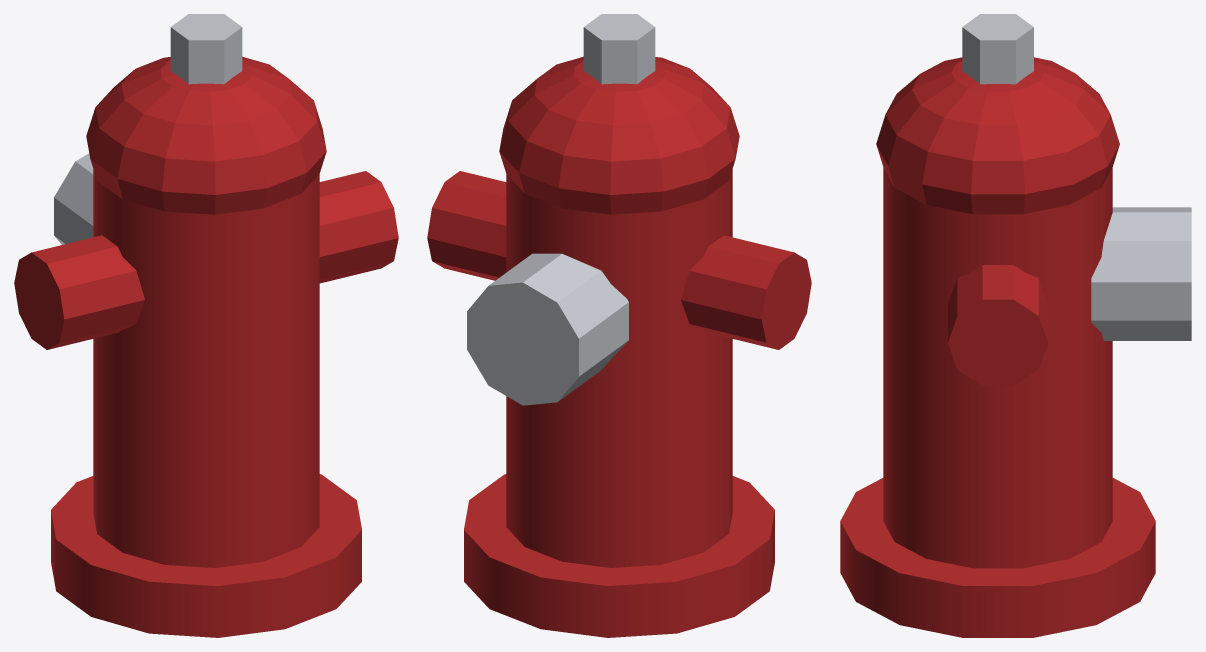
File: hydrant.glb
3 renders of one model, left to right at view 1: azimuth 30°, elevation 25°; view 2: azimuth 150°, elevation 25°; view 3: azimuth 270°, elevation 25°, orthographic.
Visible parts, largest first — view 1: part-hydrant-red, part-chrome; view 2: part-hydrant-red, part-chrome; view 3: part-hydrant-red, part-chrome.
Boxes of the visible parts, box(x1,y1,x2,y2) form: part-hydrant-red: box(14, 56, 398, 637); part-chrome: box(54, 14, 242, 244); part-hydrant-red: box(427, 56, 811, 637); part-chrome: box(467, 14, 655, 405); part-hydrant-red: box(840, 57, 1155, 637); part-chrome: box(962, 14, 1191, 340).
Bounding box in the file's own units: 5.4 × 8.4 × 4.9.
